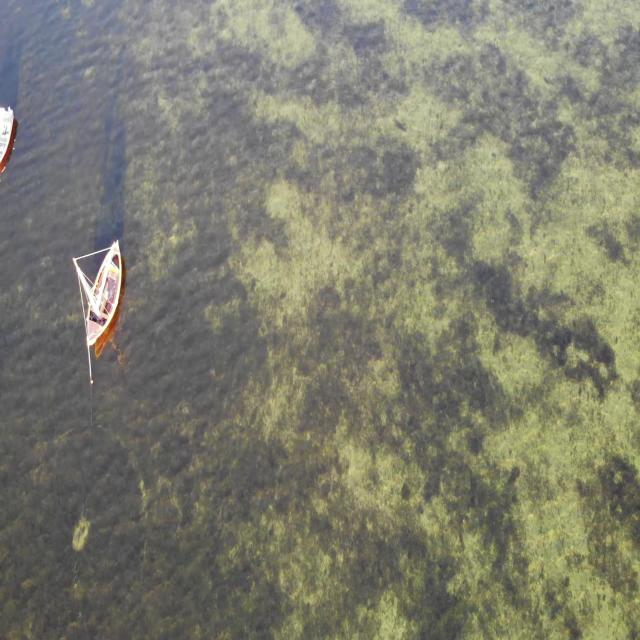sailboat: (71, 238, 123, 348)
